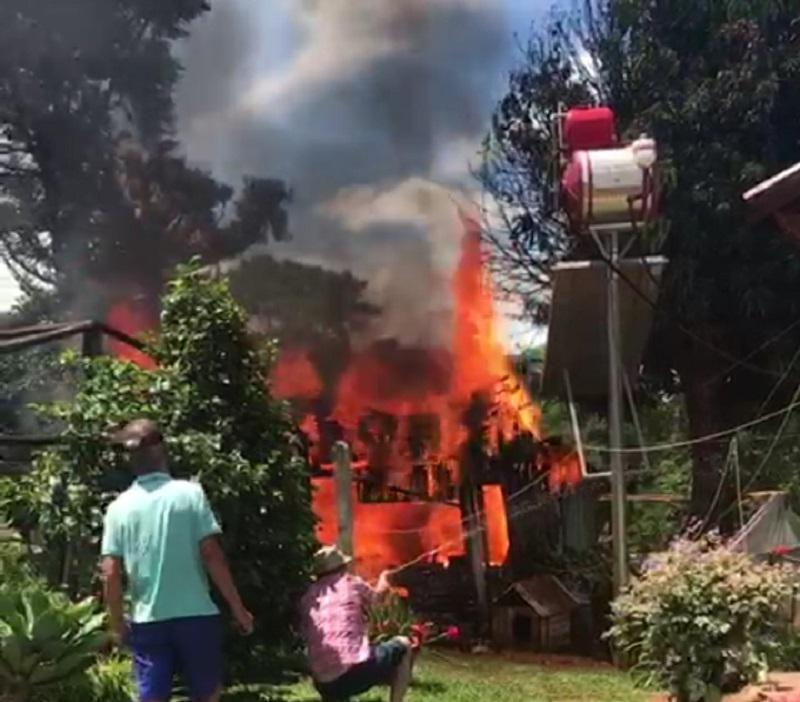Fire: (263, 220, 574, 561), (109, 307, 159, 363)
